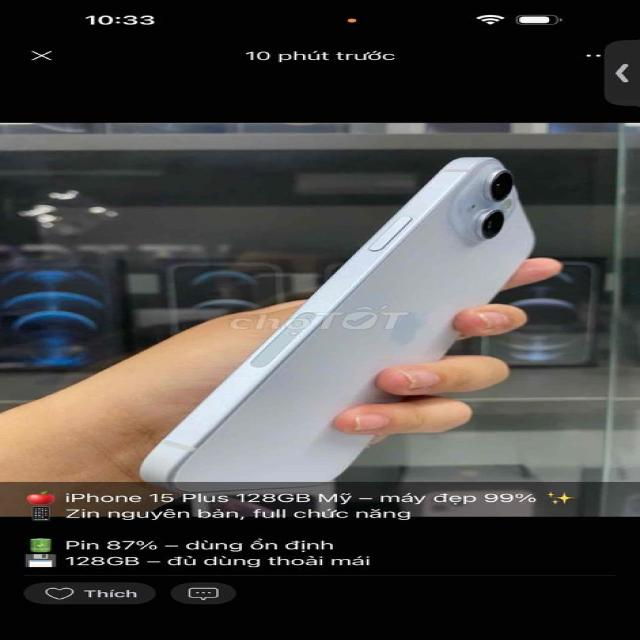gen_15: (146, 148, 544, 511)
